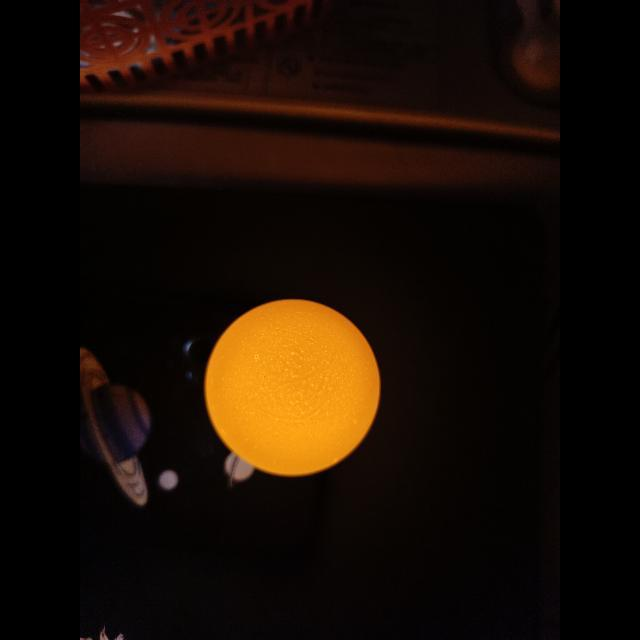AA - Premium: (205, 299, 380, 476), (301, 389, 304, 391)
